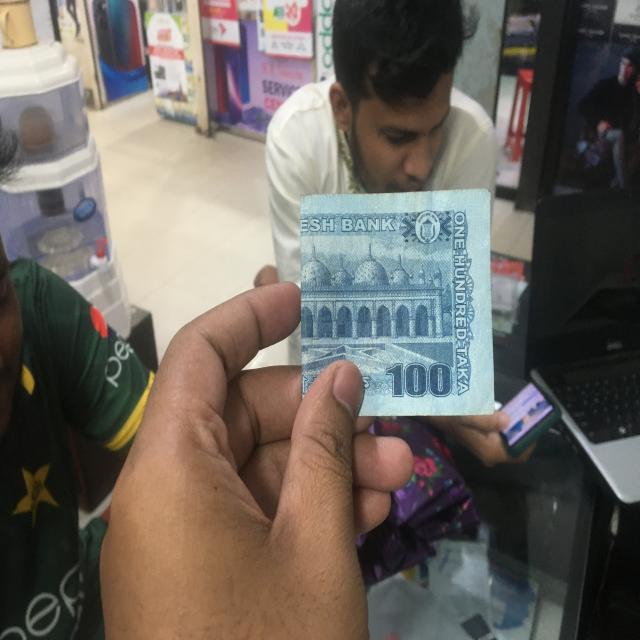Taka: (294, 190, 498, 423)
